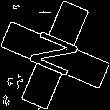N_SE: (24, 27, 86, 83)
